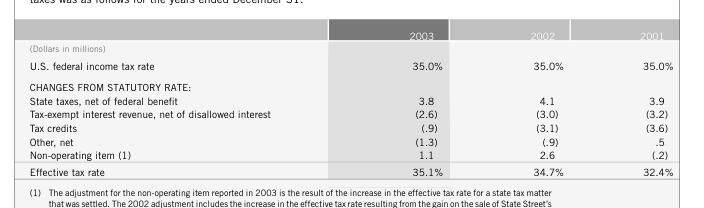table: (28, 29, 672, 177)
table column: (28, 29, 339, 177), (339, 29, 485, 177), (485, 29, 601, 177), (601, 29, 672, 177)
table column header: (28, 29, 672, 42)
table projected row header: (28, 75, 672, 92), (28, 42, 672, 56)
table row: (28, 56, 672, 75), (28, 75, 672, 92), (28, 147, 672, 162), (28, 162, 672, 177), (28, 42, 672, 56), (28, 92, 672, 106), (28, 106, 672, 120), (28, 120, 672, 134), (28, 29, 672, 42), (28, 134, 672, 147)
